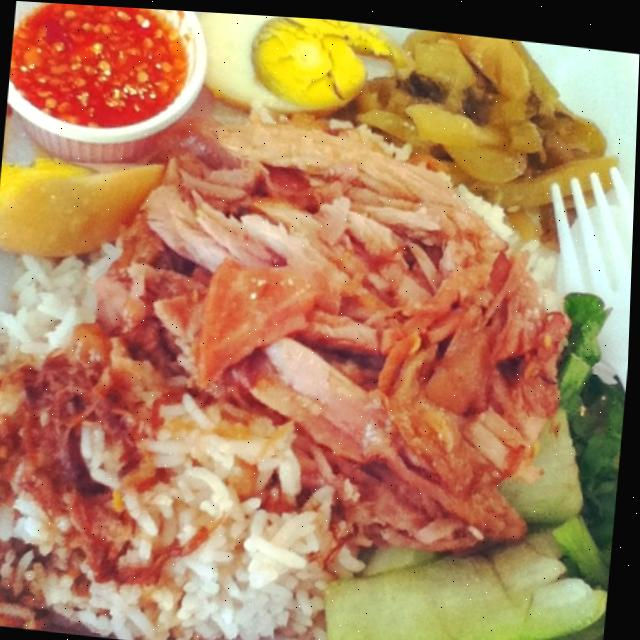猪肉菜式: (116, 105, 598, 557)
